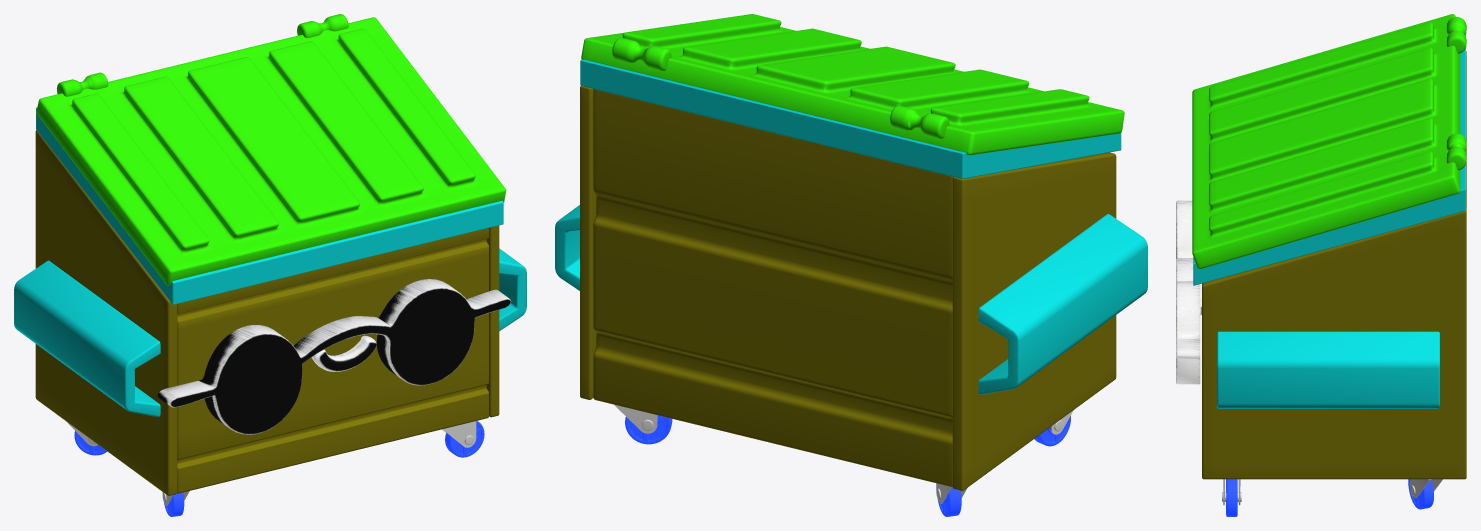
3 views of the same model, side by side, from view 1: azimuth 30°, elevation 25°; view 2: azimuth 150°, elevation 25°; view 3: azimuth 270°, elevation 25° (orthographic). The views are drawn at different scales.
Visible parts, largest first — view 1: Dumpster Geometry, Wheel Holder; view 2: Dumpster Geometry, Wheel Holder; view 3: Dumpster Geometry, Wheel Holder.
Boxes of the visible parts, x1,y1,x2,y2 form: Dumpster Geometry: (14, 14, 526, 516); Wheel Holder: (67, 421, 476, 505); Dumpster Geometry: (555, 14, 1147, 516); Wheel Holder: (614, 404, 1073, 503); Dumpster Geometry: (1176, 14, 1466, 516); Wheel Holder: (1222, 479, 1442, 505).
Size of the model in its own units: 2.31 by 1.97 by 1.45.
7 materials, 2 textured.
